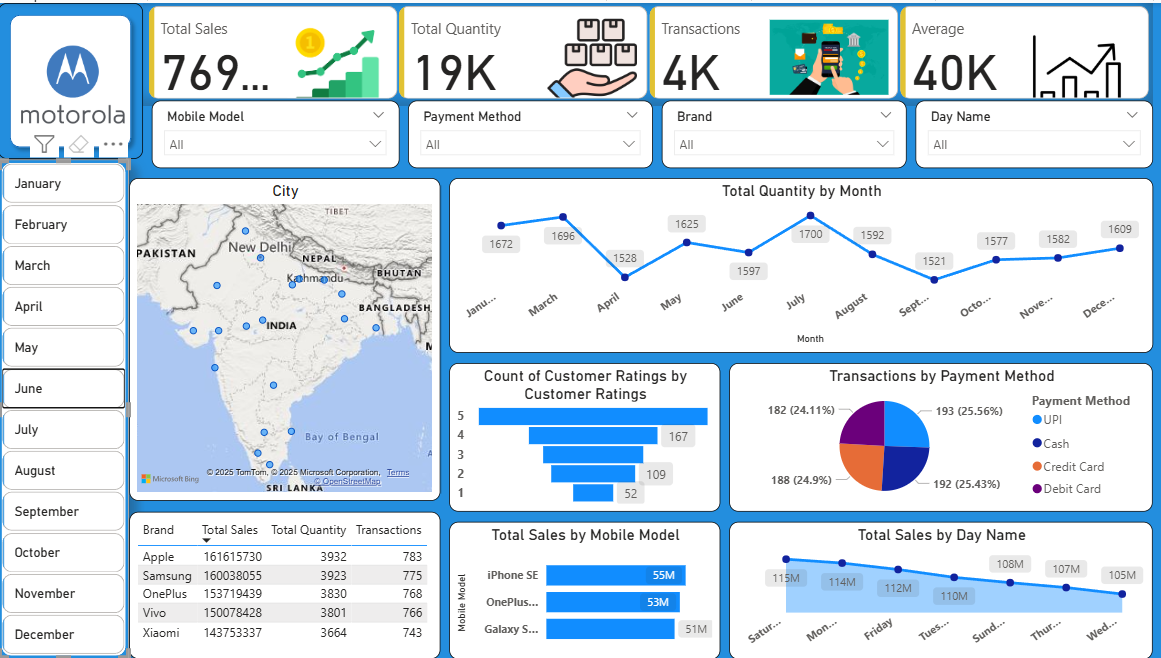

The dashboard page shown, as its layout file describes it:
{"tool":"powerbi","page":{"name":"Page 1","canvas":[1280,720],"ordinal":0},"visuals":[{"type":"shape","box":[0,0,159.2,171.5],"z":0},{"type":"image","box":[20.6,22,123.5,135.8],"z":1000},{"type":"shape","box":[0,171.5,144.1,548.9],"z":2000},{"type":"advancedSlicerVisual","fields":{"Values":["sales data.Date.Variation.Date Hierarchy.Month"]},"box":[0,171.5,144.1,548.9],"z":3000},{"type":"cardVisual","fields":{"Data":["sales data.Total Sales","sales data.Total Quantity","sales data.Transactions","sales data.Average"]},"box":[159.2,0,1108.8,112.5],"z":4000},{"type":"lineChart","fields":{"Y":["sales data.Total Quantity"],"Category":["sales data.Date.Variation.Date Hierarchy.Month","sales data.Date.Variation.Date Hierarchy.Day"]},"box":[495.4,192.1,772.6,192.1],"z":5000},{"type":"clusteredBarChart","fields":{"Category":["sales data.Mobile Model"],"Y":["sales data.Total Sales"]},"box":[495.4,569.5,297.8,150.9],"z":6000},{"type":"pieChart","fields":{"Category":["sales data.Payment Method"],"Y":["sales data.Transactions"]},"box":[802.7,395.2,465.2,163.3],"z":7000},{"type":"funnel","fields":{"Category":["sales data.Customer Ratings"],"Y":["CountNonNull(sales data.Customer Ratings)"]},"box":[495.4,395.2,297.8,163.3],"z":8000},{"type":"areaChart","fields":{"Category":["sales data.Day Name"],"Y":["sales data.Total Sales"]},"box":[802.7,569.5,465.2,150.9],"z":9000},{"type":"map","fields":{"Category":["sales data.City"]},"box":[144.1,192.1,341.7,354],"z":10000},{"type":"tableEx","fields":{"Values":["sales data.Brand","sales data.Total Sales","sales data.Total Quantity","sales data.Transactions"]},"box":[144.1,558.5,341.7,161.9],"z":11000},{"type":"slicer","fields":{"Values":["sales data.Mobile Model"]},"box":[168.8,107,271.7,74.1],"z":12000},{"type":"slicer","fields":{"Values":["sales data.Payment Method"]},"box":[450.1,107,269,74.1],"z":13000},{"type":"slicer","fields":{"Values":["sales data.Day Name"]},"box":[1007.2,107,260.7,74.1],"z":14000},{"type":"slicer","fields":{"Values":["sales data.Brand"]},"box":[728.6,107,269,74.1],"z":15000}]}

Visuals, with their boxes in screenshot pixels (x1, y1, x2, y2), scaled from the page's 1280x720 canvas onto the 1161x658 screenshot:
shape: 0:0:144:157
image: 19:20:131:144
shape: 0:157:131:657
advancedSlicerVisual - sales data.Date.Variation.Date Hierarchy.Month: 0:157:131:657
cardVisual - sales data.Total Sales x sales data.Total Quantity: 144:0:1150:103
lineChart - sales data.Total Quantity x sales data.Date.Variation.Date Hierarchy.Month: 449:176:1150:351
clusteredBarChart - sales data.Mobile Model x sales data.Total Sales: 449:520:719:657
pieChart - sales data.Payment Method x sales data.Transactions: 728:361:1150:510
funnel - sales data.Customer Ratings x CountNonNull(sales data.Customer Ratings): 449:361:719:510
areaChart - sales data.Day Name x sales data.Total Sales: 728:520:1150:657
map - sales data.City: 131:176:441:499
tableEx - sales data.Brand x sales data.Total Sales: 131:510:441:657
slicer - sales data.Mobile Model: 153:98:400:166
slicer - sales data.Payment Method: 408:98:652:166
slicer - sales data.Day Name: 914:98:1150:166
slicer - sales data.Brand: 661:98:905:166
